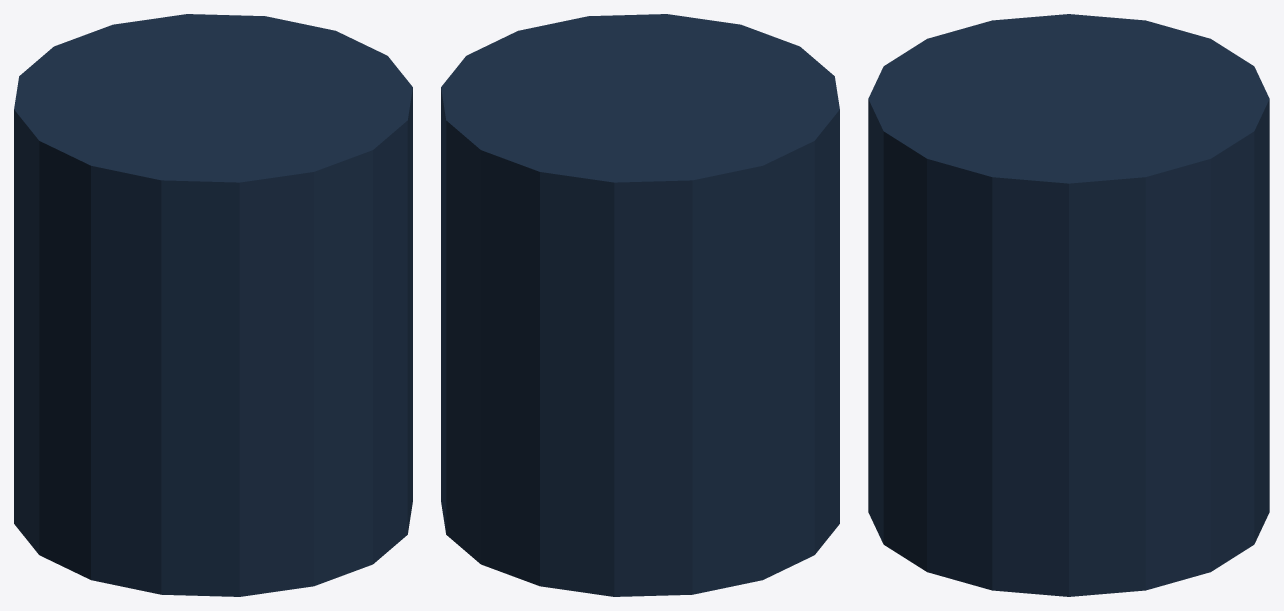
File: GalakasMidCity_PIPECUT_Wall_DrainpipeRoundSocket_01.obj
3 views of the same model, side by side, from view 1: azimuth 30°, elevation 25°; view 2: azimuth 150°, elevation 25°; view 3: azimuth 270°, elevation 25° (orthographic).
Parts seen in each view (by area): view 1: pipe_cutout_volume, pipe_cutout_volume_capB; view 2: pipe_cutout_volume, pipe_cutout_volume_capB; view 3: pipe_cutout_volume, pipe_cutout_volume_capB.
Part boxes in pixels (<box>): pipe_cutout_volume: <box>14,88,412,596</box>; pipe_cutout_volume_capB: <box>14,14,412,182</box>; pipe_cutout_volume: <box>441,88,839,596</box>; pipe_cutout_volume_capB: <box>441,14,839,182</box>; pipe_cutout_volume: <box>868,99,1269,596</box>; pipe_cutout_volume_capB: <box>868,14,1269,183</box>.
Size of the model in its own units: 0.44 by 0.5 by 0.44.
